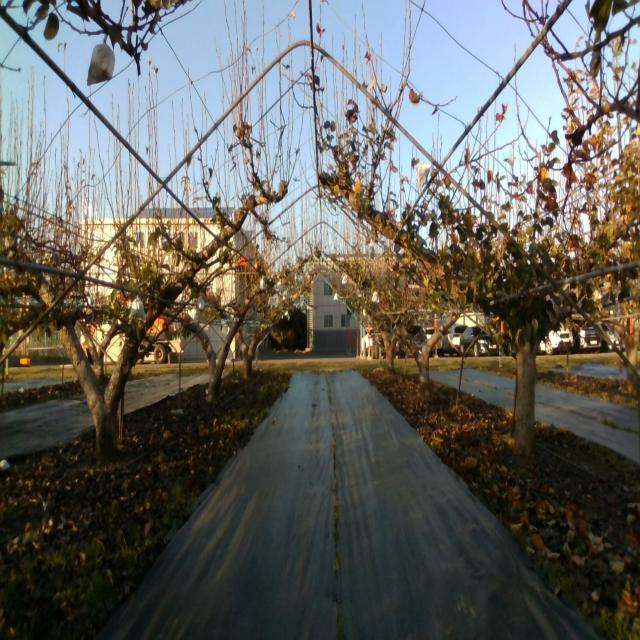pearbags: (87, 43, 115, 85), (129, 294, 146, 322), (416, 162, 432, 191)
